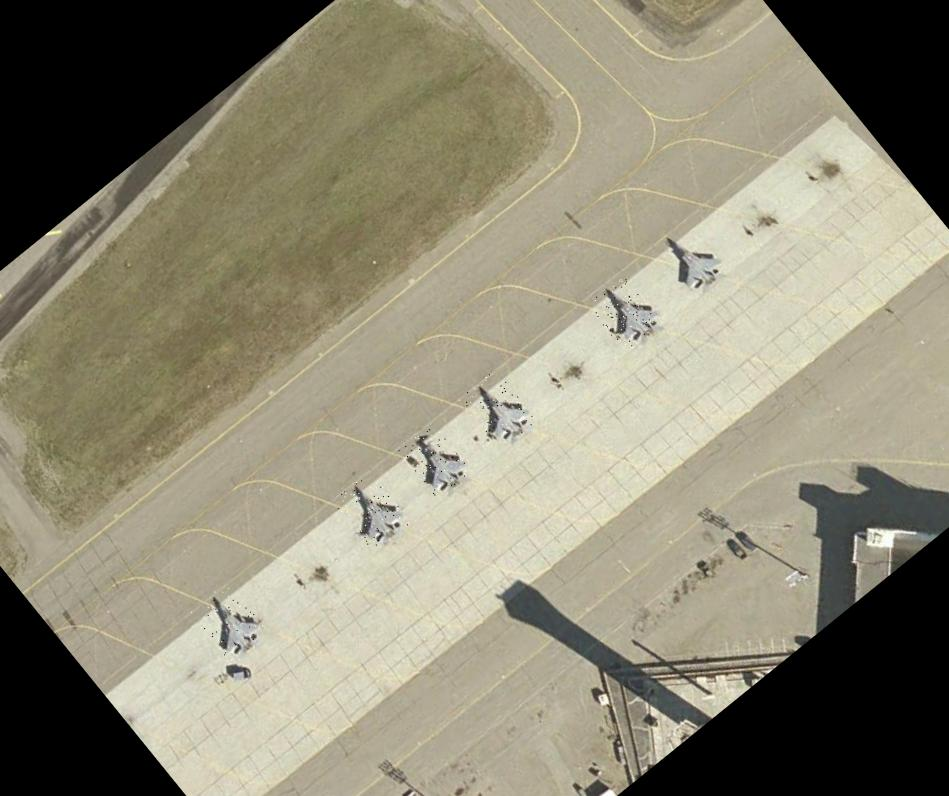A13: (188, 581, 270, 665), (457, 368, 537, 451), (585, 271, 665, 353), (332, 471, 410, 552), (396, 422, 472, 501), (652, 219, 724, 295)
